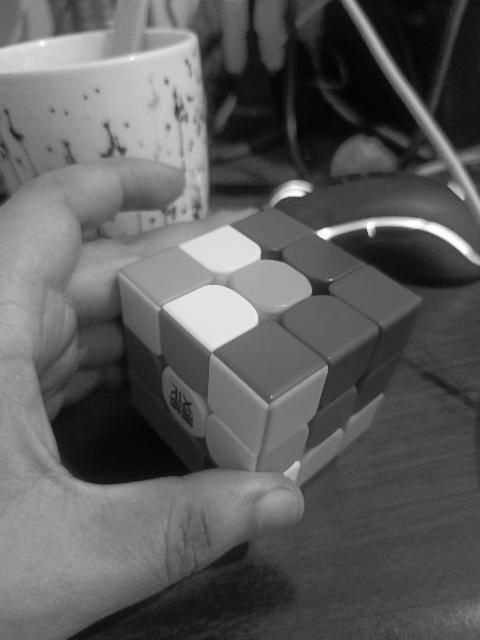rubik: (118, 205, 422, 487)
